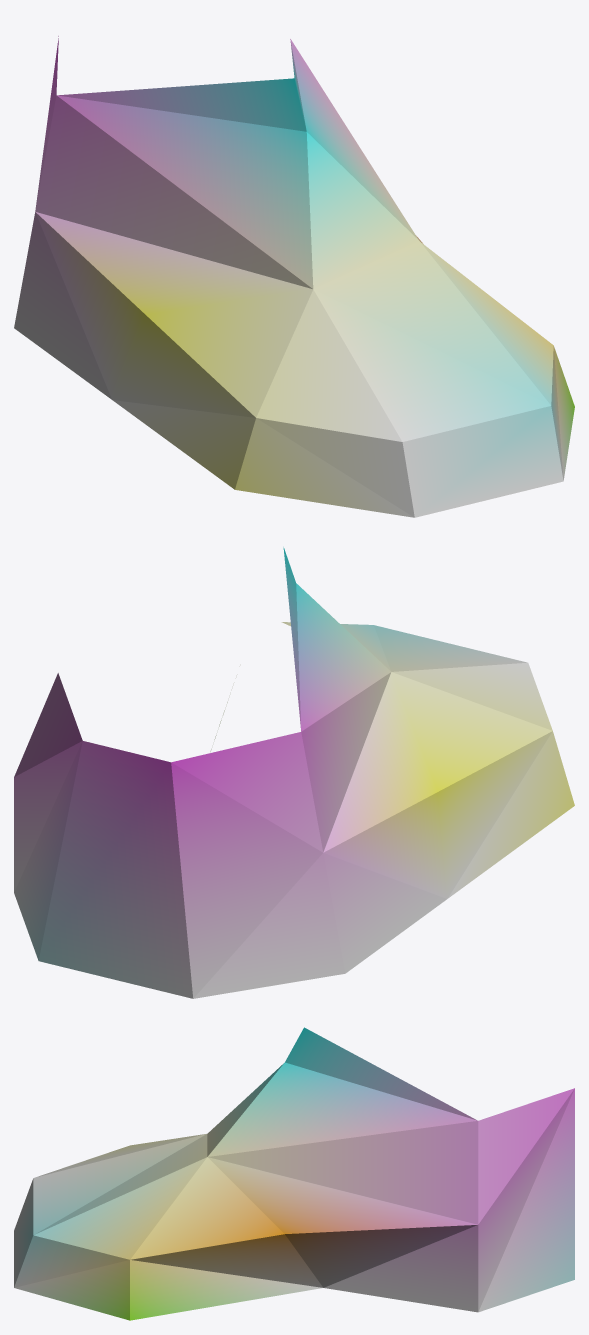
3 views of the same model, one above another, from view 1: azimuth 30°, elevation 25°; view 2: azimuth 150°, elevation 25°; view 3: azimuth 270°, elevation 25° (orthographic). The views are drawn at different scales.
Visible parts, largest first — view 1: model_1130; view 2: model_1130; view 3: model_1130.
Part boxes in pixels (box(x1,y1,x2,y2)): model_1130: box(14, 36, 574, 517); model_1130: box(14, 547, 574, 998); model_1130: box(14, 1027, 574, 1320).
Bounding box in the file's own units: 16 × 13 × 29.
